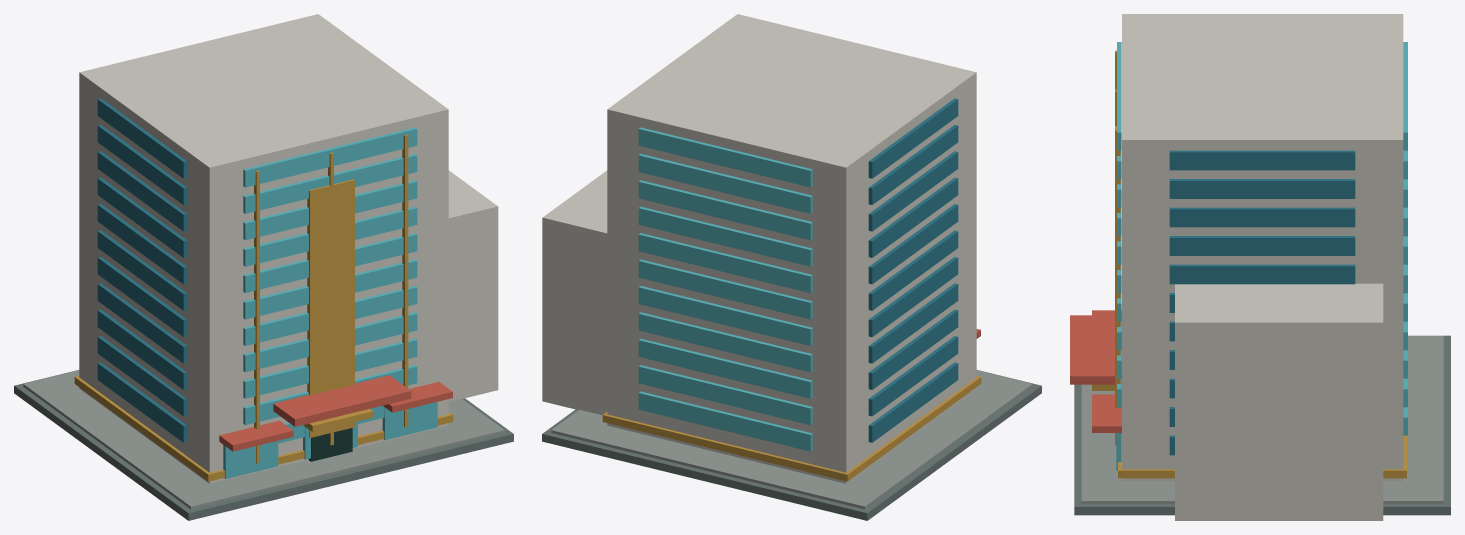
File: hotel_lv2.glb
3 renders of one model, left to right at view 1: azimuth 30°, elevation 25°; view 2: azimuth 150°, elevation 25°; view 3: azimuth 270°, elevation 25°, orthographic. The views are drawn at different scales.
Visible parts, largest first — view 1: rough, glossy; view 2: rough, glossy; view 3: rough, glossy.
Boxes of the visible parts, left/top/right/bottom form: rough: left=14, top=14, right=513, bottom=520; glossy: left=97, top=98, right=437, bottom=478; rough: left=542, top=14, right=1041, bottom=520; glossy: left=638, top=98, right=958, bottom=451; rough: left=1070, top=14, right=1450, bottom=520; glossy: left=1116, top=42, right=1407, bottom=470.
Size of the model in its own units: 10.73 by 9.4 by 9.2.
